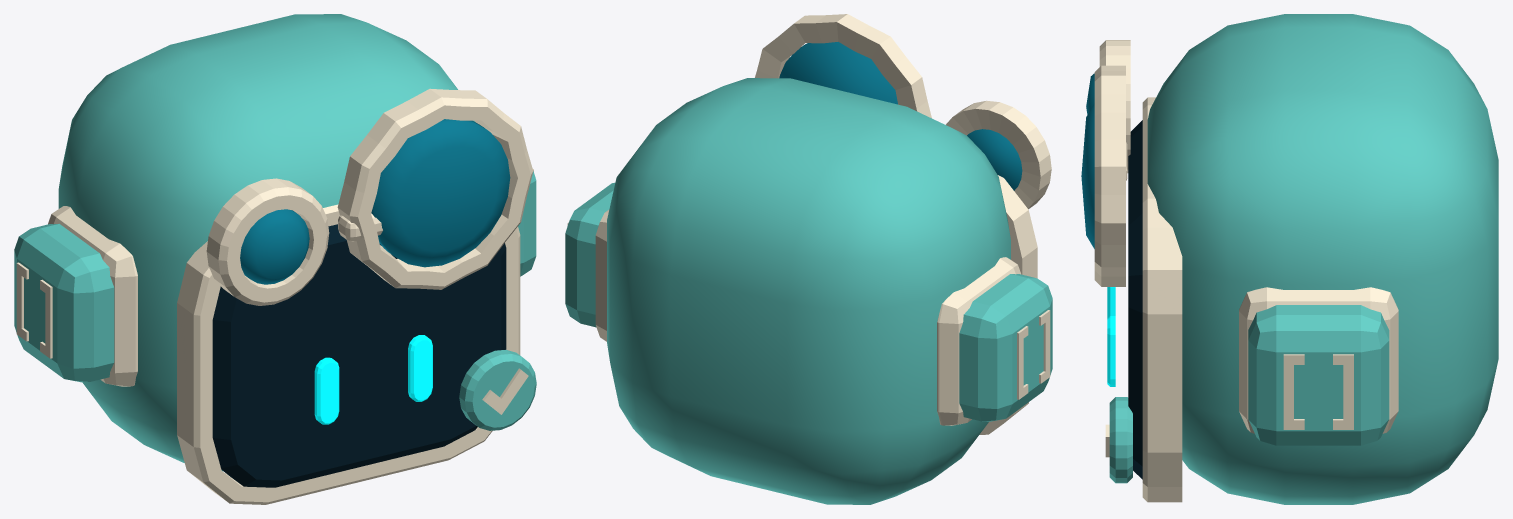
The model's file is copilot_tester_v01.glb.
The picture shows the model from 3 angles, left to right: view 1: azimuth 30°, elevation 25°; view 2: azimuth 150°, elevation 25°; view 3: azimuth 270°, elevation 25°; orthographic projection. The views are drawn at different scales.
Visible parts, largest first — view 1: tester_model; view 2: tester_model; view 3: tester_model.
Boxes of the visible parts, x1,y1,x2,y2 form: tester_model: [14, 14, 536, 504]; tester_model: [565, 14, 1052, 504]; tester_model: [1081, 14, 1498, 504].
Size of the model in its own units: 2.49 by 1.95 by 1.77.
2 materials, 2 textured.
